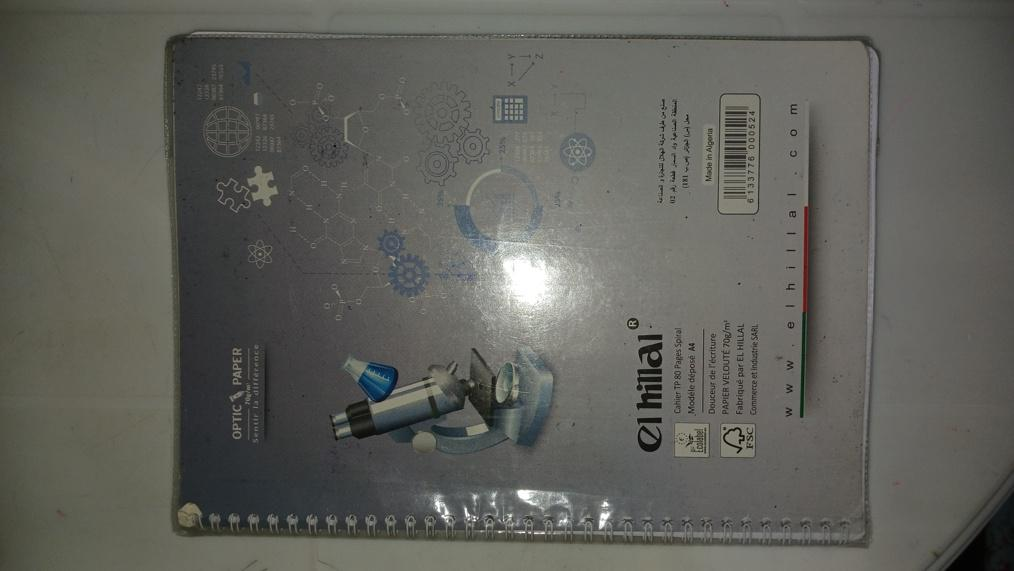notebook: (176, 36, 875, 539)
